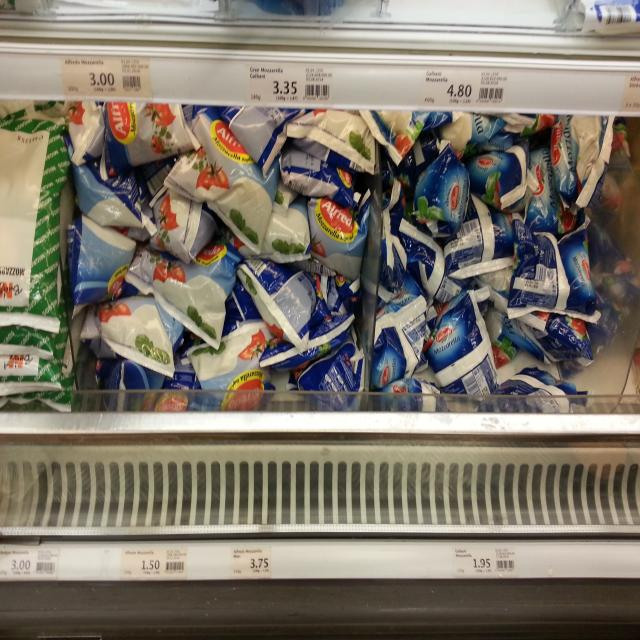Cheese: (164, 120, 283, 252), (0, 119, 71, 331), (125, 238, 238, 348), (80, 280, 192, 377), (508, 216, 599, 326), (422, 285, 501, 404), (235, 255, 322, 352), (544, 114, 620, 212), (96, 96, 202, 166), (65, 212, 140, 304), (362, 296, 429, 391), (306, 190, 370, 285)
